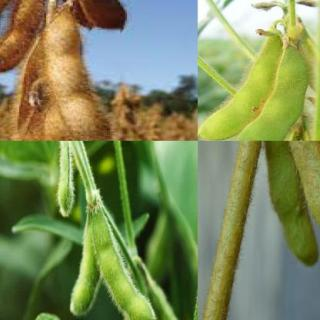soya: (198, 39, 280, 140), (41, 11, 104, 134), (230, 47, 308, 140), (92, 208, 155, 320), (264, 140, 318, 268), (291, 140, 319, 282), (0, 0, 45, 74), (68, 225, 100, 317), (0, 0, 36, 56), (57, 141, 75, 218)
